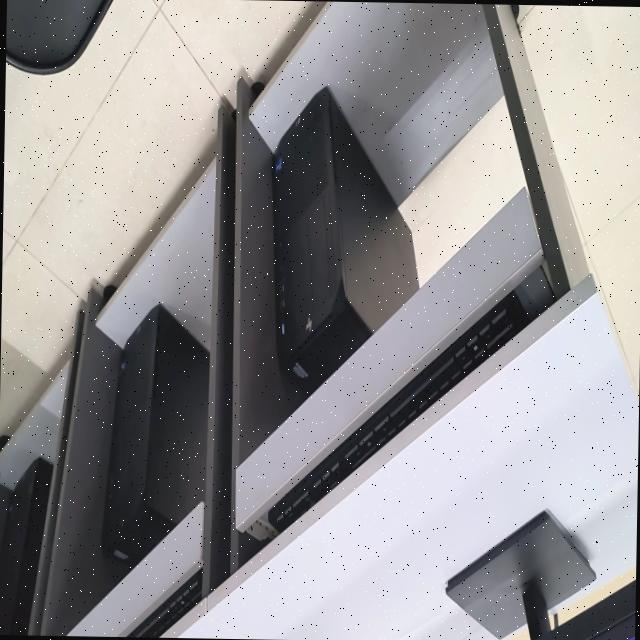Chair: (4, 0, 111, 74)
Cpu: (271, 87, 416, 390), (102, 304, 208, 562), (0, 457, 52, 635)
Keyboard: (266, 274, 543, 531), (125, 567, 200, 637)
Monitor: (444, 510, 636, 640)
